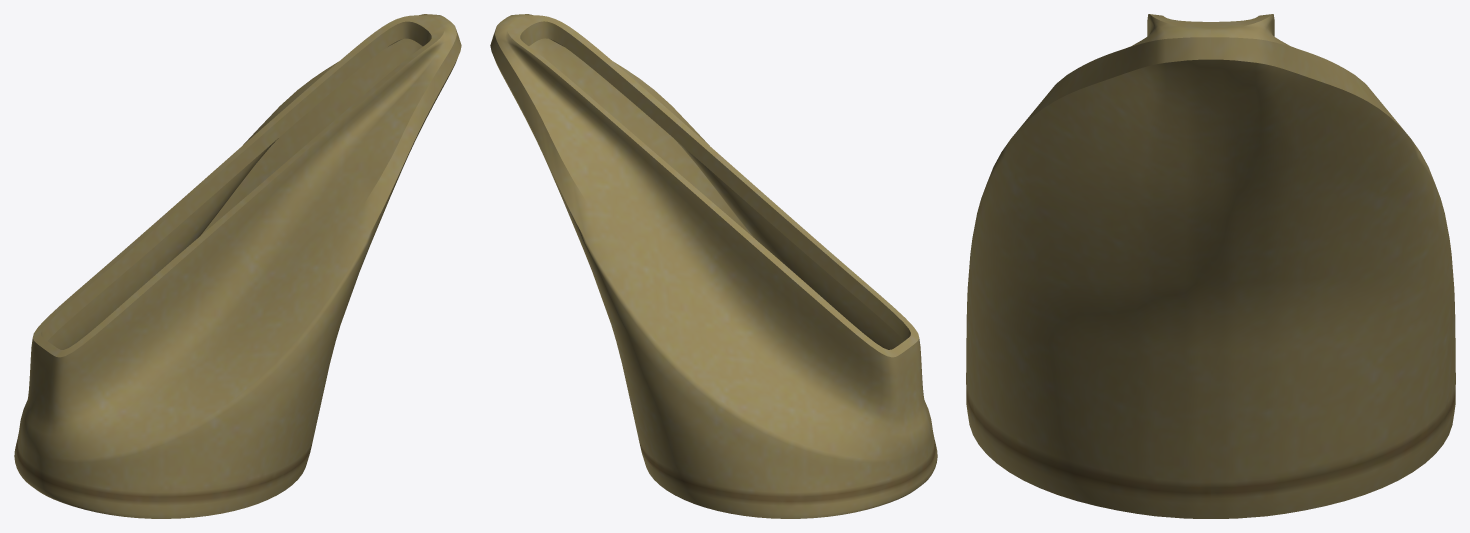
The model's file is wm_elven_sword_a_handguard.fbx.
3 renders of one model, left to right at view 1: azimuth 30°, elevation 25°; view 2: azimuth 150°, elevation 25°; view 3: azimuth 270°, elevation 25°, orthographic. The views are drawn at different scales.
Parts seen in each view (by area): view 1: wm_elven_sword_a_handguard; view 2: wm_elven_sword_a_handguard; view 3: wm_elven_sword_a_handguard.
Boxes of the visible parts, x1,y1,x2,y2 form: wm_elven_sword_a_handguard: (14, 14, 461, 518); wm_elven_sword_a_handguard: (490, 14, 937, 518); wm_elven_sword_a_handguard: (966, 14, 1455, 518).
Size of the model in its own units: 0.0728 by 0.0443 by 0.0612.
1 material, 1 textured.
